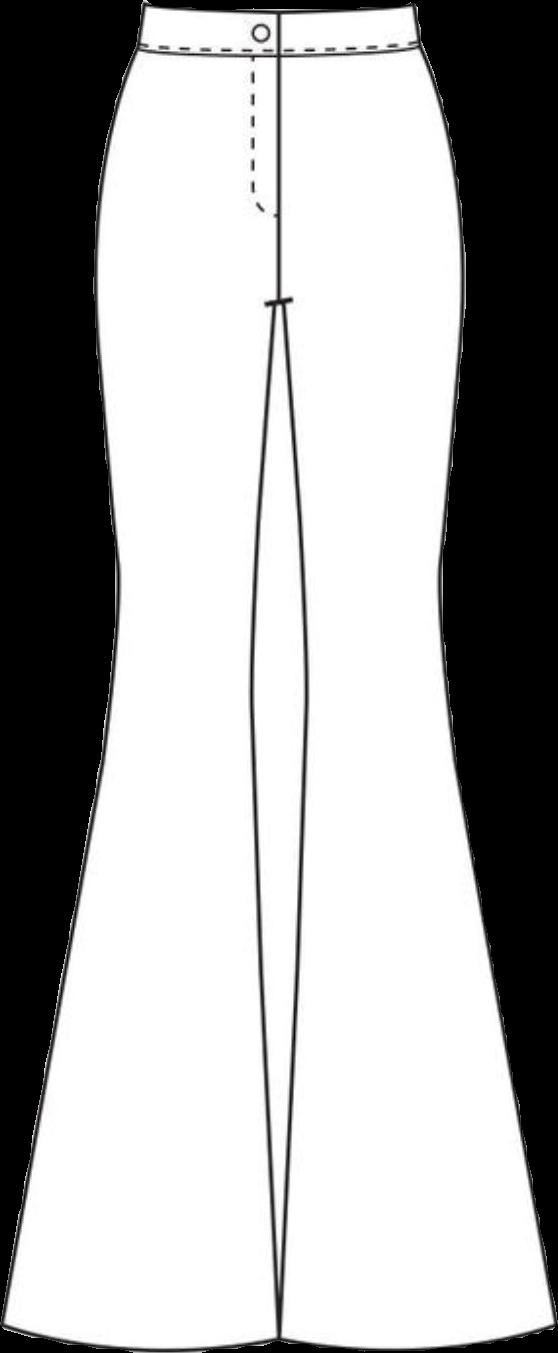Hemline: (275, 1314, 557, 1351), (0, 1314, 281, 1349)
Pantleg: (278, 3, 556, 1345), (0, 5, 277, 1345)
Waistline: (126, 32, 426, 69), (135, 0, 419, 22)
